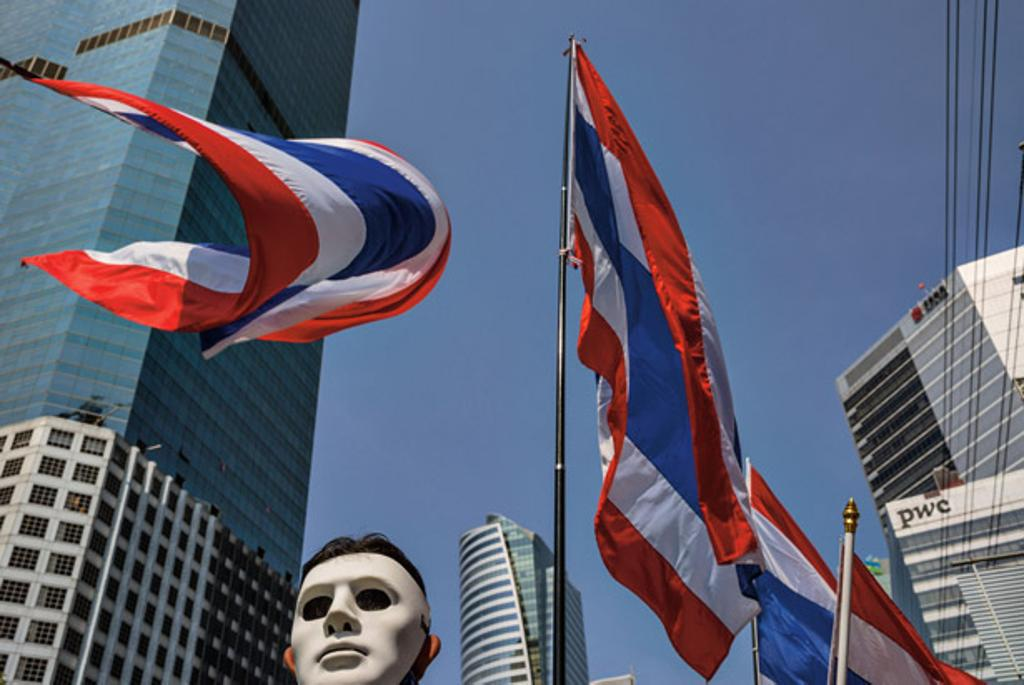face: (293, 565, 427, 685)
